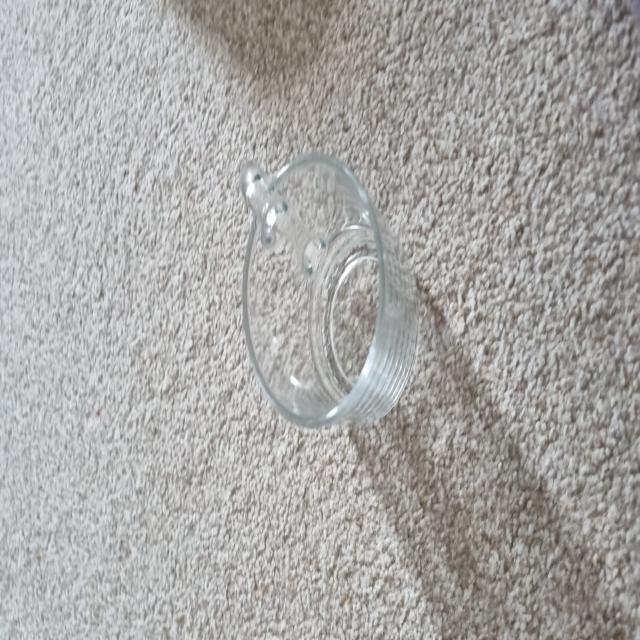Cup: (241, 152, 420, 427)
